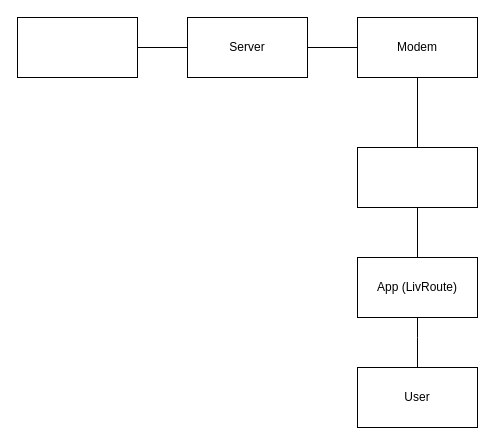
This 495x445 diagram has some shape labels left out. The centre of each missing label's shape, as x and y in pixels:
"Database" belongs at pixel 77 47.
"PC/Mobile" belongs at pixel 417 177.
